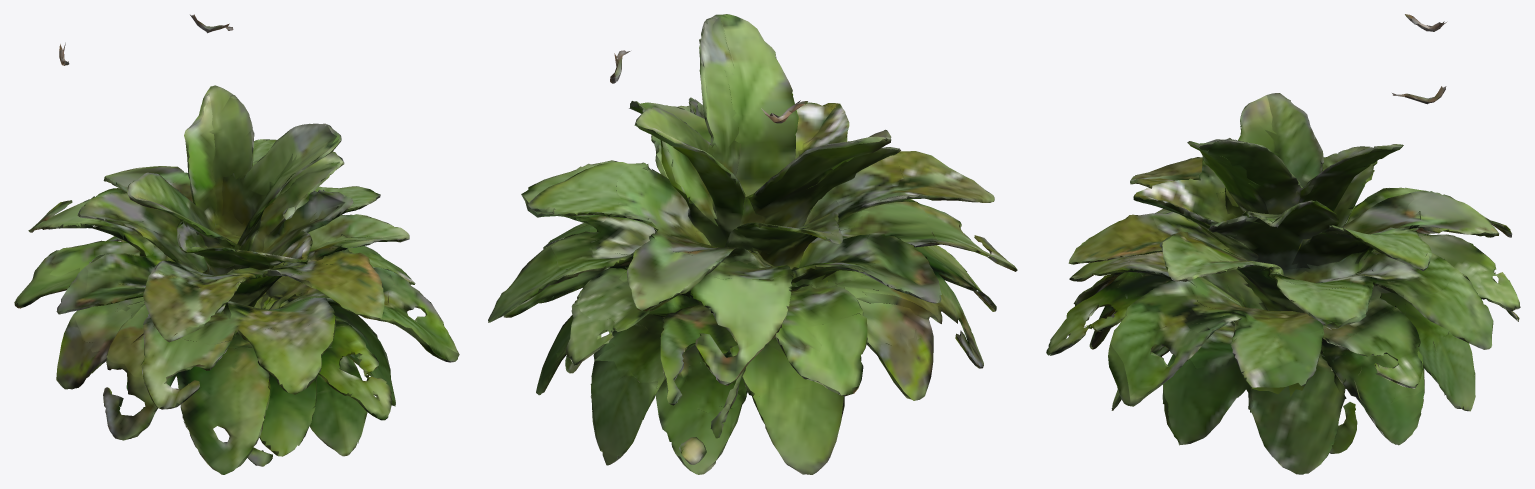
Rendered from F3D_11_Bush.fbx.
The picture shows the model from 3 angles, left to right: view 1: azimuth 30°, elevation 25°; view 2: azimuth 150°, elevation 25°; view 3: azimuth 270°, elevation 25°; orthographic projection. The views are drawn at different scales.
Visible parts, largest first — view 1: F3D_11_Bush; view 2: F3D_11_Bush; view 3: F3D_11_Bush.
Part boxes in pixels (<box>): F3D_11_Bush: <box>14,14,459,474</box>; F3D_11_Bush: <box>488,14,1017,474</box>; F3D_11_Bush: <box>1046,14,1520,474</box>.
Size of the model in its own units: 1.07 by 1 by 1.27.
Materials: 1 (1 with a texture image).
